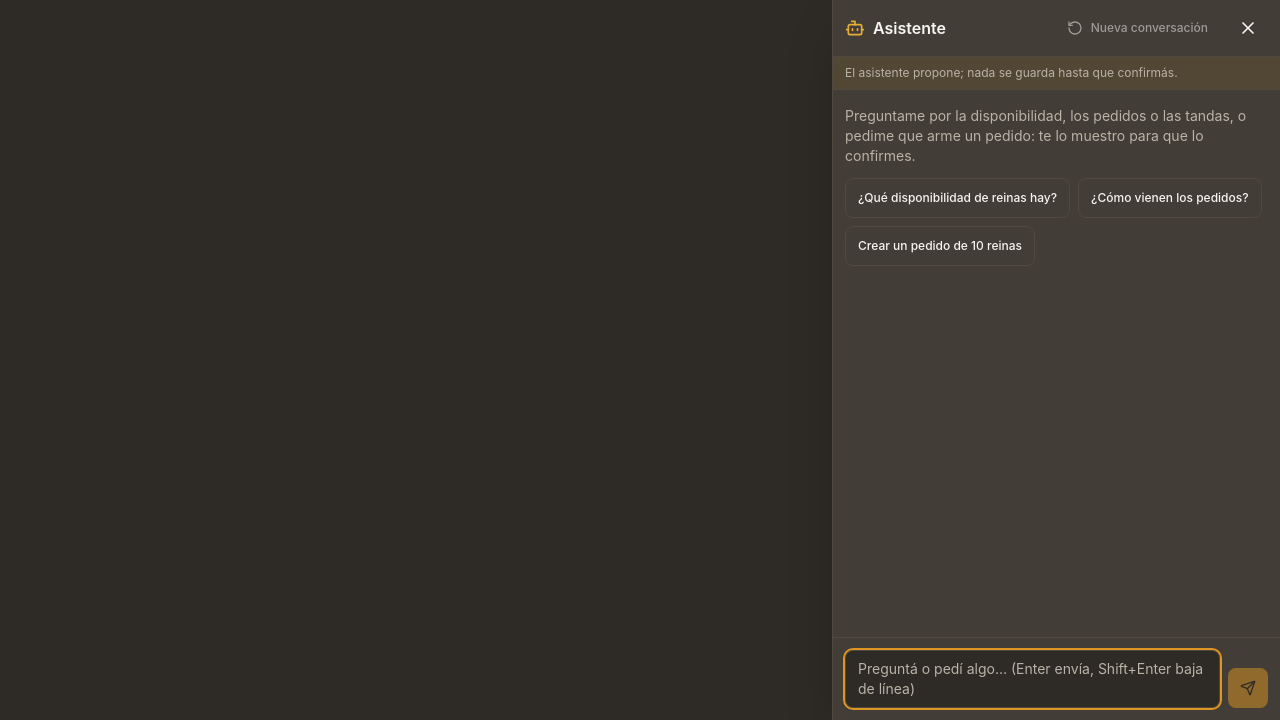
Test: mensaje resultado y botón Seguir › tras confirmar, agrega el resultado con el id y Seguir lo manda al asistente
Step 1. Type "creá el parque" into the text box named "Mensaje para el asistente" → (1032, 679), box [845,650,1220,708]
Then press Enter
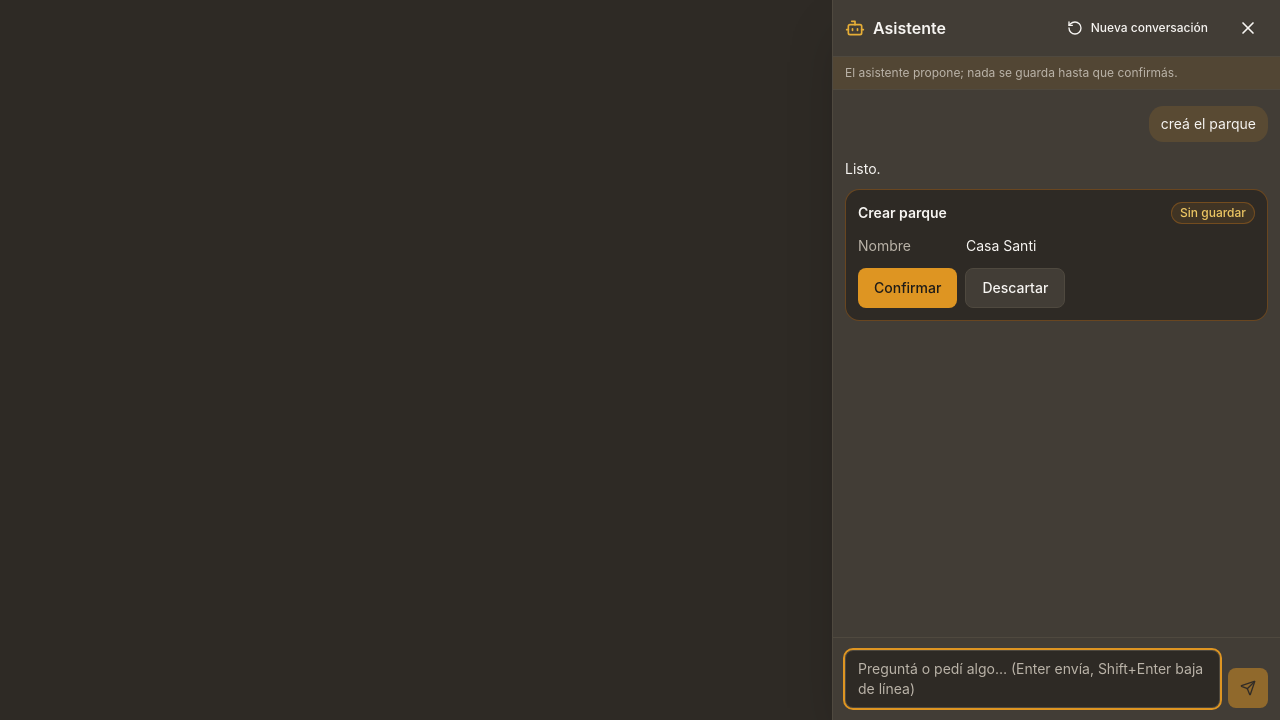
Step 2. Click the button "Confirmar" → (908, 288), box [858,268,957,308]
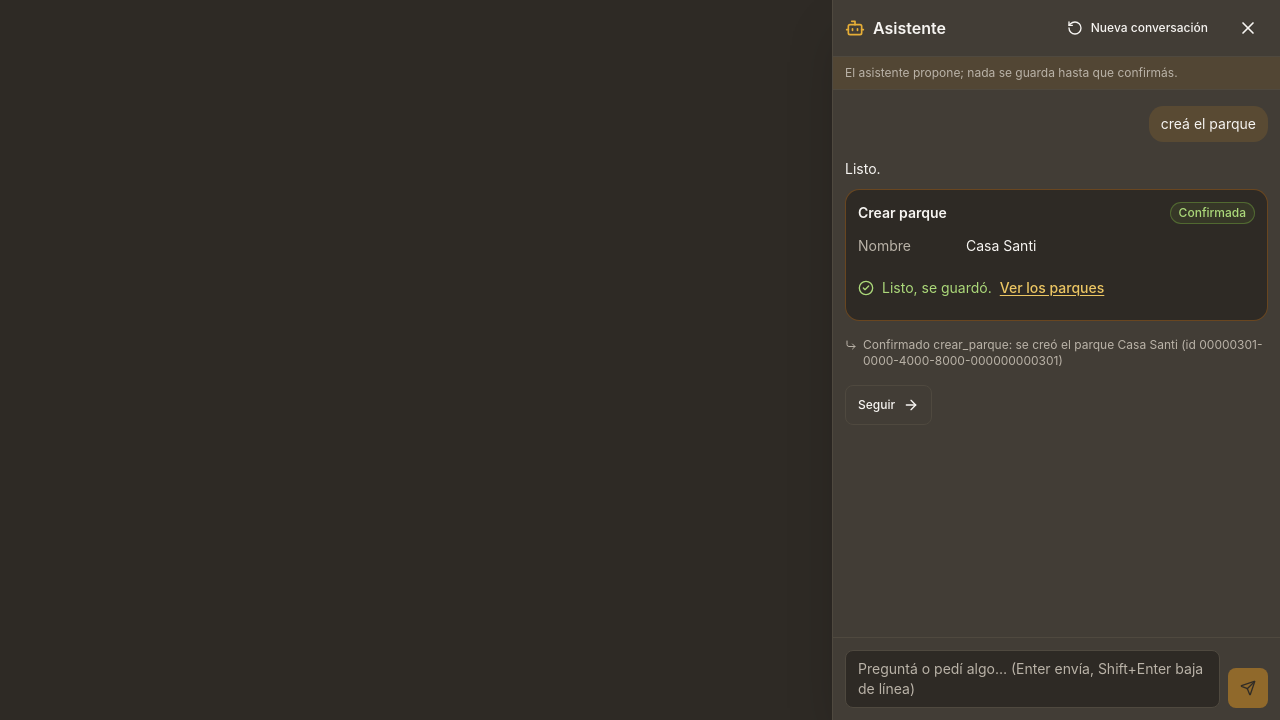
Step 3. Click the button "Seguir" → (889, 405), box [845,385,932,425]
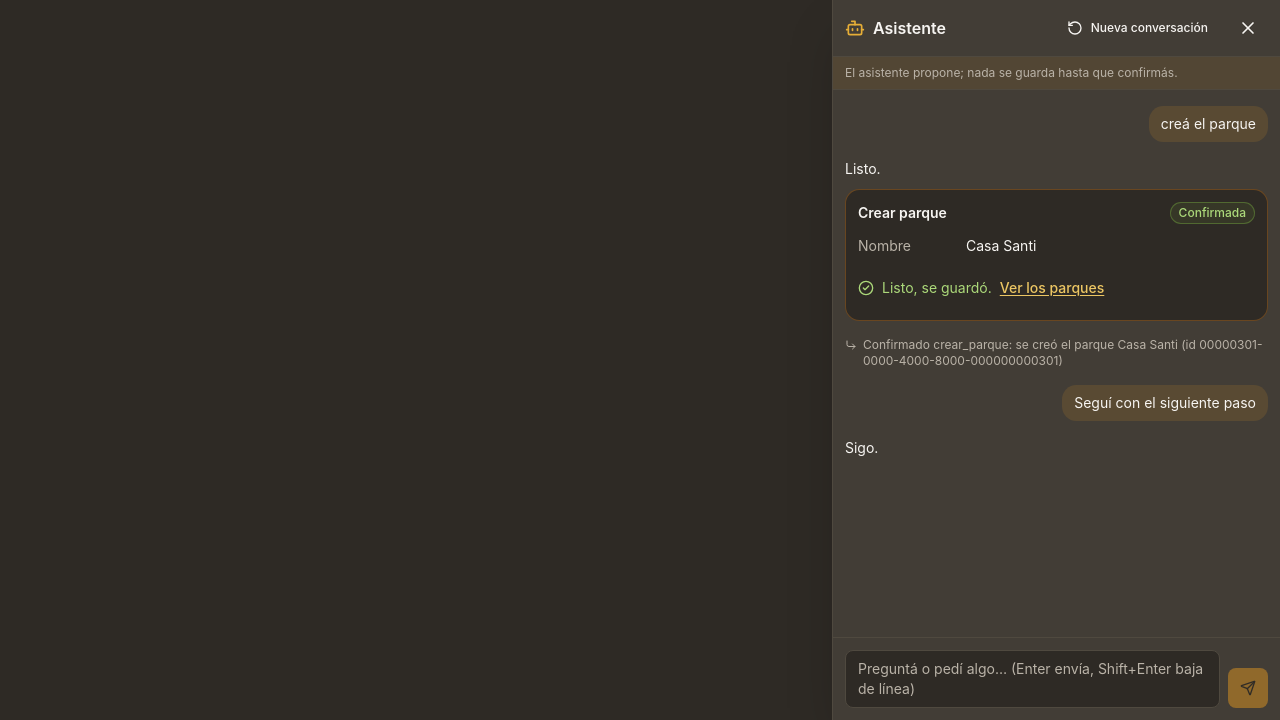
Now the text "Sigo." is shown, box [845,439,878,456]
Now the button "Seguir" is gone
